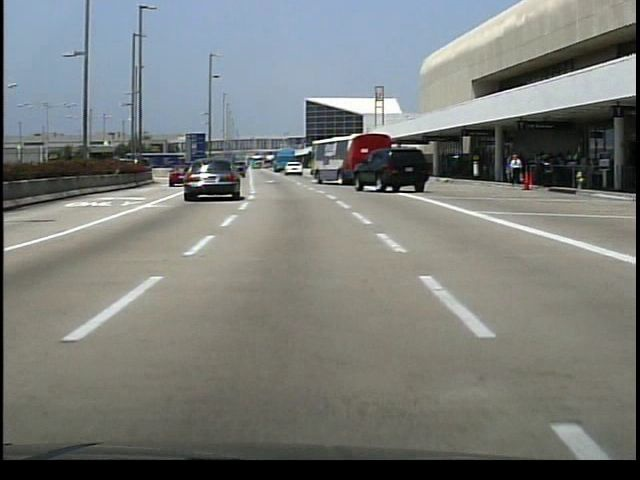person: (507, 153, 522, 189)
